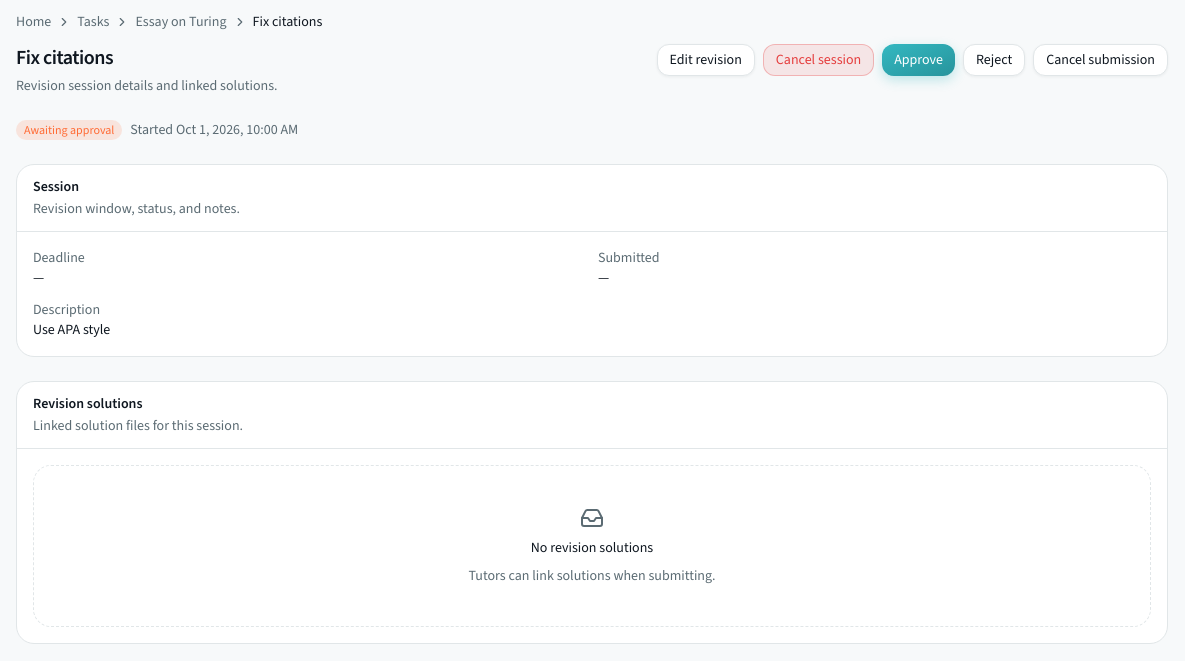
Test case: RevisionDetailsPage › approves, updates the badge and reloads
Check: the heading "Fix citations" is shown, box [16,44,113,71]
Click the button "Approve" at (919,60), box [882,44,955,76]
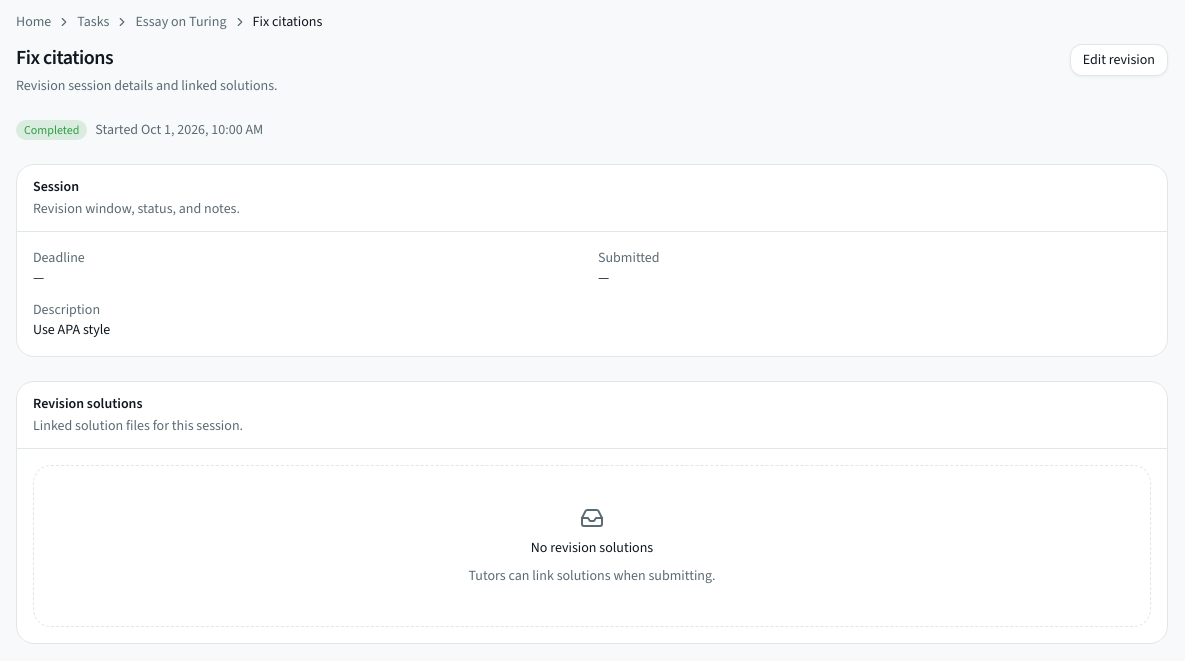
Check: the text "Completed" is shown, box [16,120,87,140]
Check: the button "Approve" is gone
